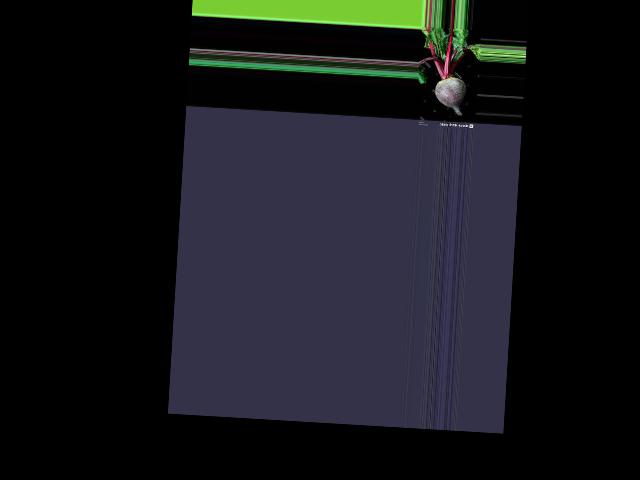beet: (415, 26, 481, 116)
